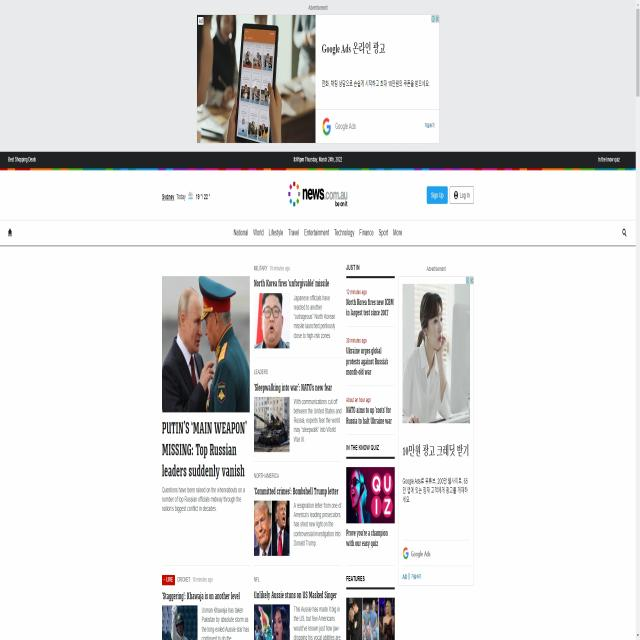menu-bar: (424, 184, 476, 207)
side-panel: (345, 260, 397, 640)
tab-bar: (232, 218, 406, 245)
